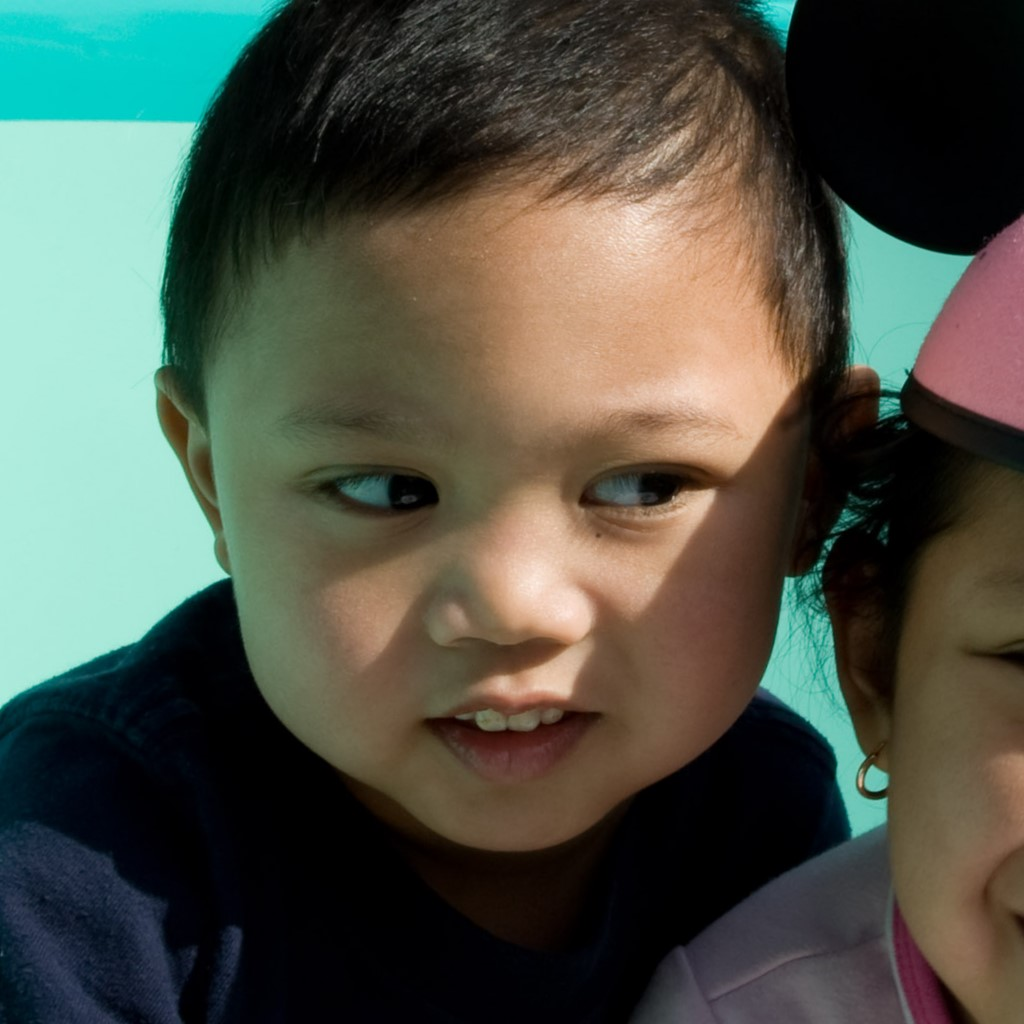sin_mascara: (210, 87, 805, 855)
